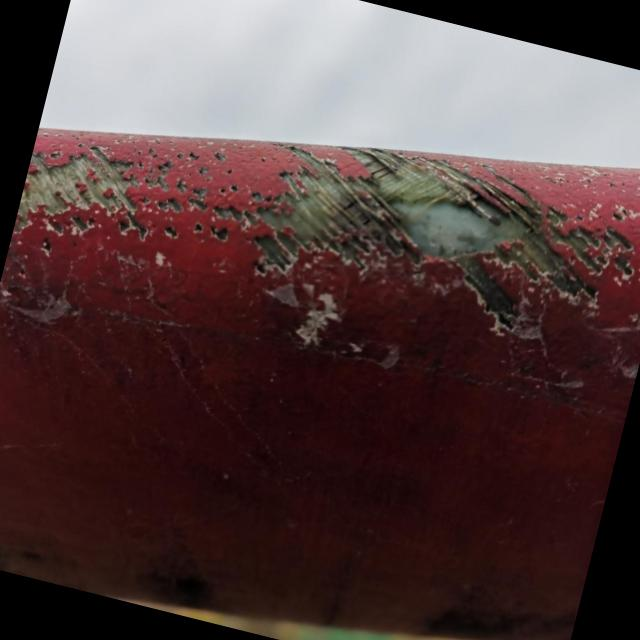corrosion: (0, 28, 640, 469)
